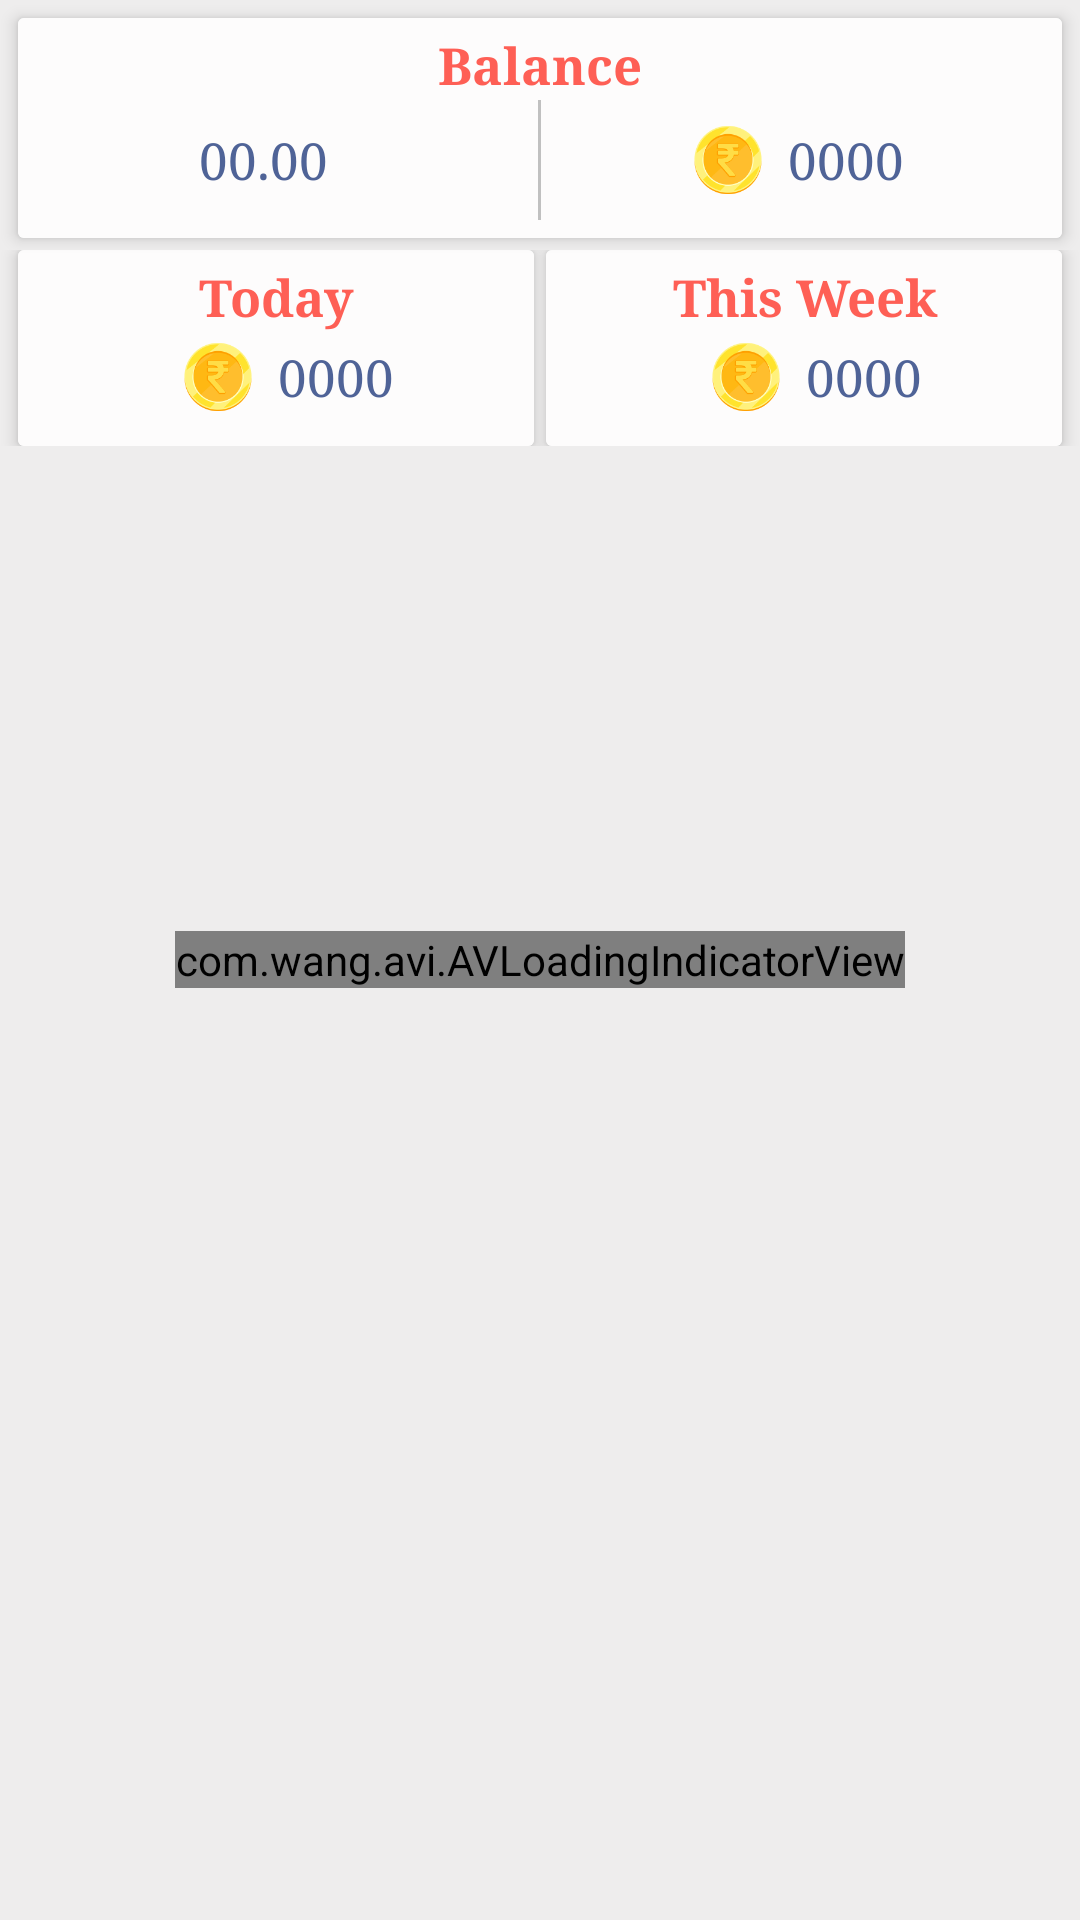

Icon bounding boxes for this 1080 x 1920 phone screenshot, format (x1, y1, x2, y2):
coinmobcandy: (694, 126, 762, 194), (184, 343, 252, 411), (712, 343, 780, 411)
